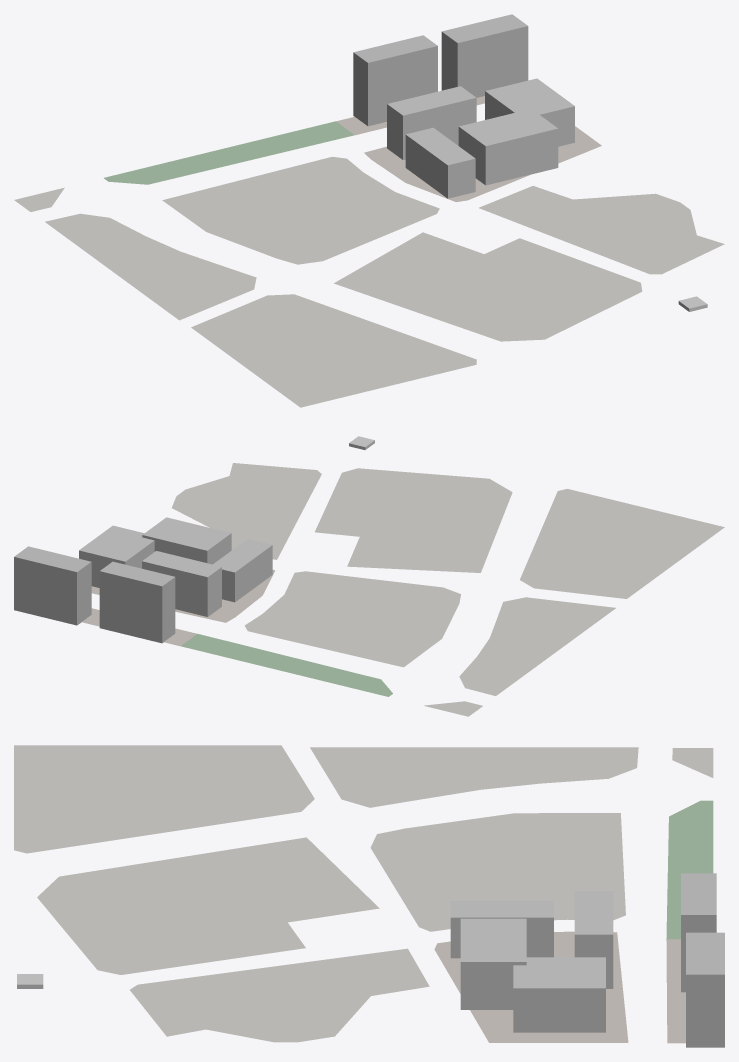
File: 99_104_mid.glb
The picture shows the model from 3 angles, top to bottom: view 1: azimuth 30°, elevation 25°; view 2: azimuth 150°, elevation 25°; view 3: azimuth 270°, elevation 25°; orthographic projection. The views are drawn at different scales.
Size of the model in its own units: 507 by 61.4 by 508.
